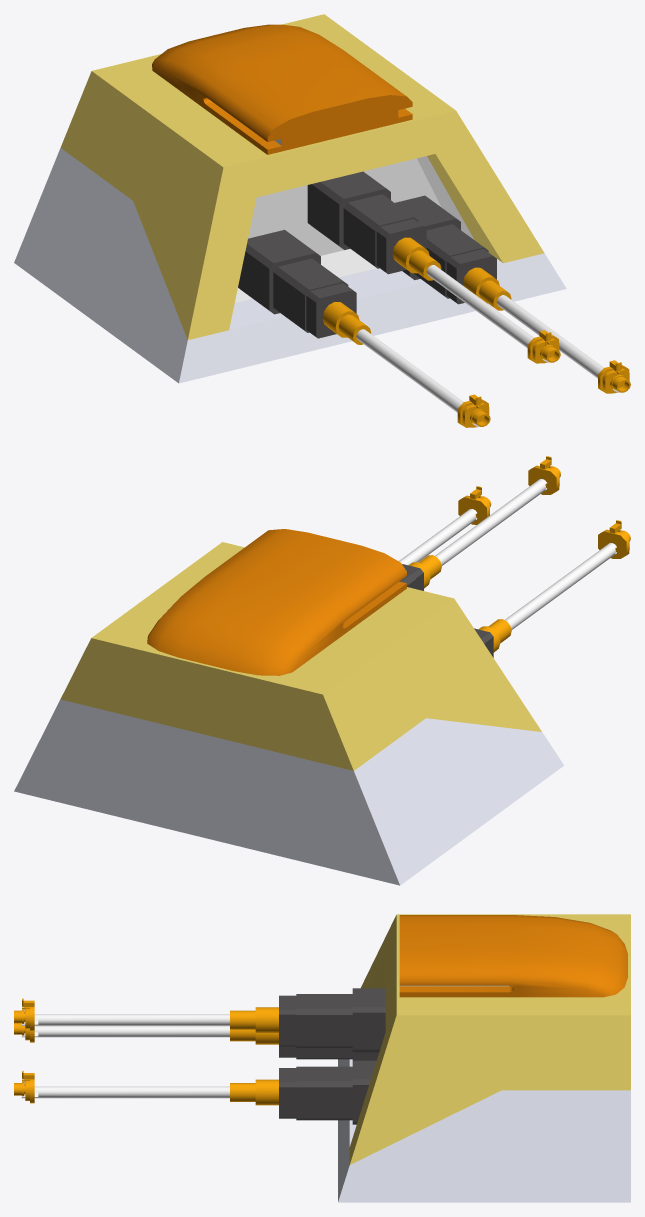
The model's file is AutoCannon2.fbx.
3 renders of one model, top to bottom at view 1: azimuth 30°, elevation 25°; view 2: azimuth 150°, elevation 25°; view 3: azimuth 270°, elevation 25°, orthographic. The views are drawn at different scales.
Parts seen in each view (by area): view 1: mergedBlocks; view 2: mergedBlocks; view 3: mergedBlocks.
Boxes of the visible parts, <box> form: mergedBlocks: <box>14,14,630,427</box>; mergedBlocks: <box>14,456,630,885</box>; mergedBlocks: <box>14,914,630,1202</box>.
Bounding box in the file's own units: 77.44 × 39.12 × 120.
